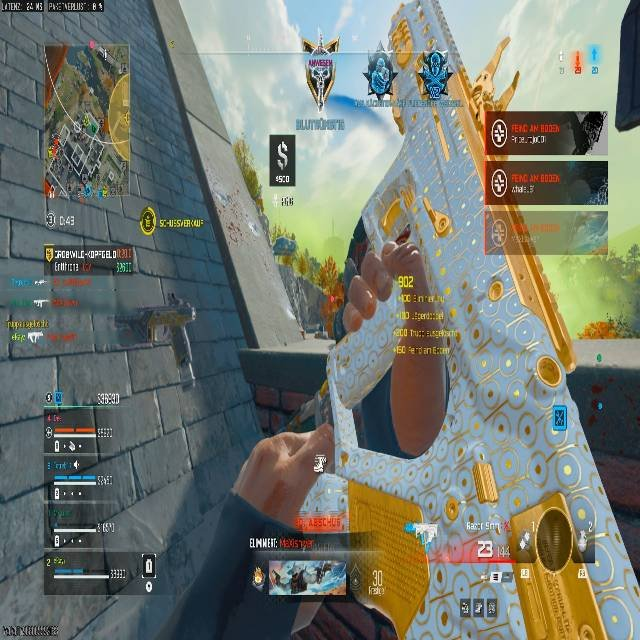player: (128, 68, 465, 640)
